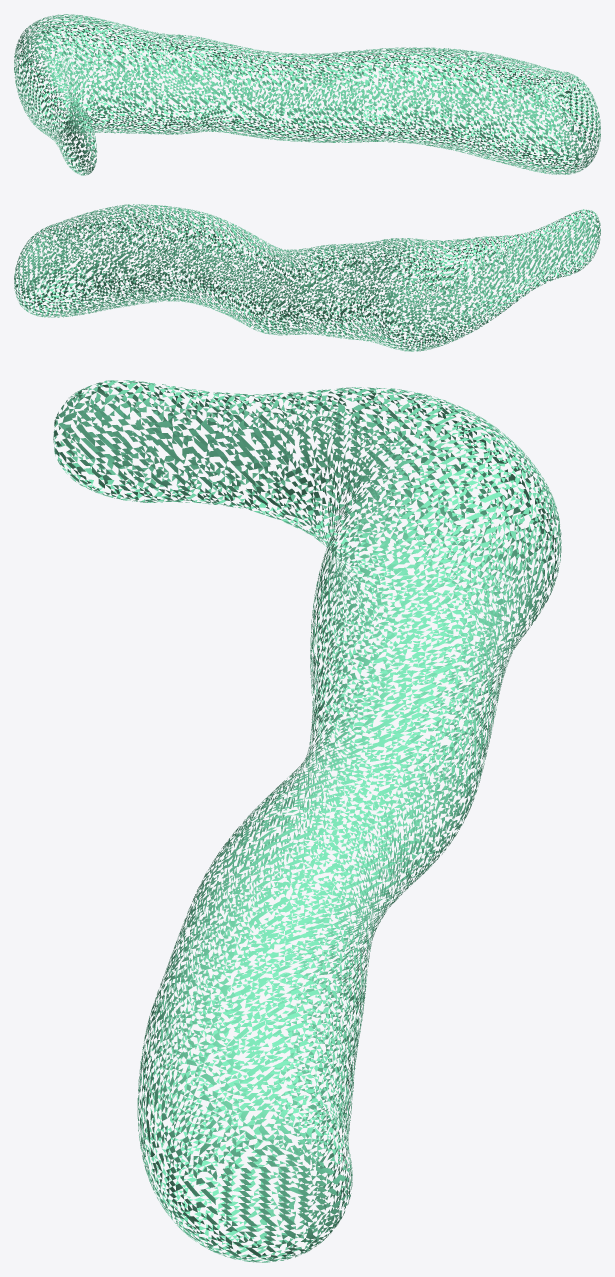
The model's file is healthy.glb.
The picture shows the model from 3 angles, top to bottom: view 1: azimuth 30°, elevation 25°; view 2: azimuth 150°, elevation 25°; view 3: azimuth 270°, elevation 25°; orthographic projection. The views are drawn at different scales.
Bounding box in the file's own units: 136 × 52.16 × 57.16.
